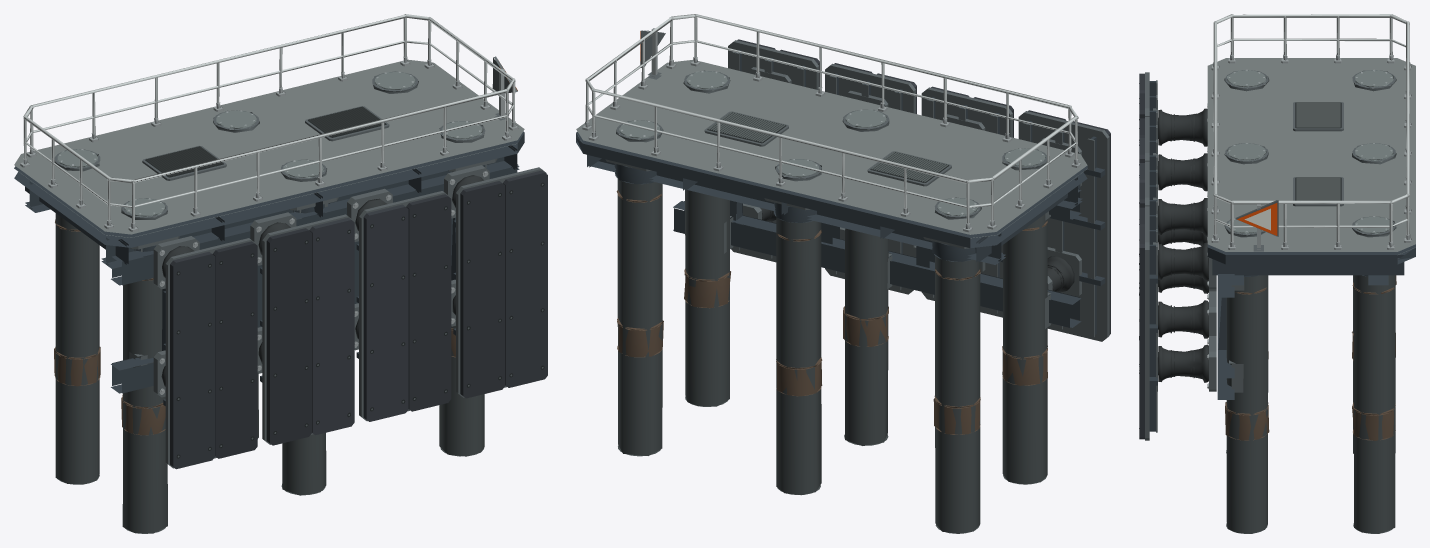
The model's file is ferry_dolphin_lod.glb.
The picture shows the model from 3 angles, left to right: view 1: azimuth 30°, elevation 25°; view 2: azimuth 150°, elevation 25°; view 3: azimuth 270°, elevation 25°; orthographic projection. The views are drawn at different scales.
Parts seen in each view (by area): view 1: Flat steel working deck, Fender 01, Fender 03, Fender 02, Fender 04, Pile 04, Galvanized two-rail perimeter, Reaction beams and deck framing, Pile 01, Pile caps and inspection gratings, Pile 03, Pile 02; view 2: Flat steel working deck, Pile 04, Pile 05, Pile 06, Reaction beams and deck framing, Pile 01, Galvanized two-rail perimeter, Fender 01, Pile 03, Pile 02, Pile caps and inspection gratings, Fender 04 (+3 smaller); view 3: Flat steel working deck, Pile 06, Pile 03, Fender 04, Pile caps and inspection gratings, Galvanized two-rail perimeter, Reaction beams and deck framing, Fender 03, Fender 02, Fender 01, Orange triangular daymark.
Boxes of the visible parts, x1=… form: Flat steel working deck: x1=14, y1=59, x2=524, y2=247; Fender 01: x1=153, y1=236, x2=257, y2=469; Fender 03: x1=347, y1=188, x2=451, y2=421; Fender 02: x1=250, y1=212, x2=354, y2=445; Fender 04: x1=444, y1=165, x2=547, y2=398; Pile 04: x1=54, y1=213, x2=100, y2=484; Galvanized two-rail perimeter: x1=20, y1=14, x2=518, y2=231; Reaction beams and deck framing: x1=25, y1=144, x2=519, y2=393; Pile 01: x1=121, y1=236, x2=179, y2=533; Pile caps and inspection gratings: x1=54, y1=71, x2=485, y2=219; Pile 03: x1=439, y1=158, x2=497, y2=456; Pile 02: x1=281, y1=197, x2=338, y2=495; Flat steel working deck: x1=576, y1=60, x2=1087, y2=248; Pile 04: x1=923, y1=237, x2=980, y2=533; Pile 05: x1=764, y1=198, x2=822, y2=495; Pile 06: x1=605, y1=159, x2=663, y2=456; Reaction beams and deck framing: x1=587, y1=155, x2=1082, y2=328; Pile 01: x1=1002, y1=214, x2=1047, y2=484; Galvanized two-rail perimeter: x1=582, y1=14, x2=1081, y2=232; Fender 01: x1=1018, y1=110, x2=1110, y2=341; Pile 03: x1=684, y1=189, x2=730, y2=406; Pile 02: x1=843, y1=228, x2=888, y2=445; Pile caps and inspection gratings: x1=616, y1=70, x2=1046, y2=219; Fender 04: x1=728, y1=39, x2=819, y2=262; Flat steel working deck: x1=1207, y1=58, x2=1415, y2=264; Pile 06: x1=1352, y1=275, x2=1395, y2=533; Pile 03: x1=1225, y1=275, x2=1269, y2=533; Fender 04: x1=1139, y1=206, x2=1216, y2=440; Pile caps and inspection gratings: x1=1224, y1=69, x2=1396, y2=237; Galvanized two-rail perimeter: x1=1211, y1=14, x2=1411, y2=249; Reaction beams and deck framing: x1=1212, y1=255, x2=1404, y2=399; Fender 03: x1=1139, y1=161, x2=1216, y2=364; Fender 02: x1=1139, y1=117, x2=1216, y2=294; Fender 01: x1=1139, y1=72, x2=1207, y2=294; Orange triangular daymark: x1=1235, y1=200, x2=1278, y2=251.
Bounding box in the file's own units: 9.55 × 7.97 × 5.77.
